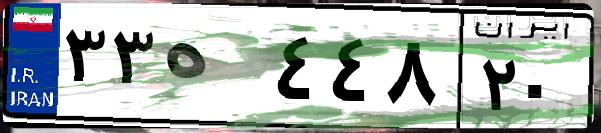0: (525, 38, 570, 115)
2: (475, 38, 525, 113)
3: (57, 26, 110, 100), (110, 28, 158, 98)
4: (270, 28, 330, 110), (330, 28, 385, 110)
8: (385, 28, 445, 110)
ه: (158, 20, 270, 120)
